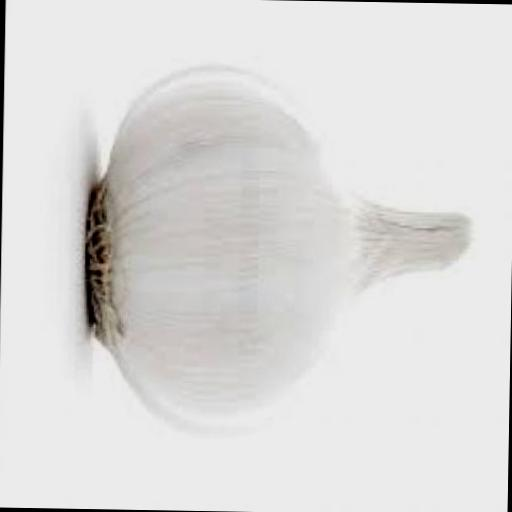biodegradable: (84, 68, 476, 429)
